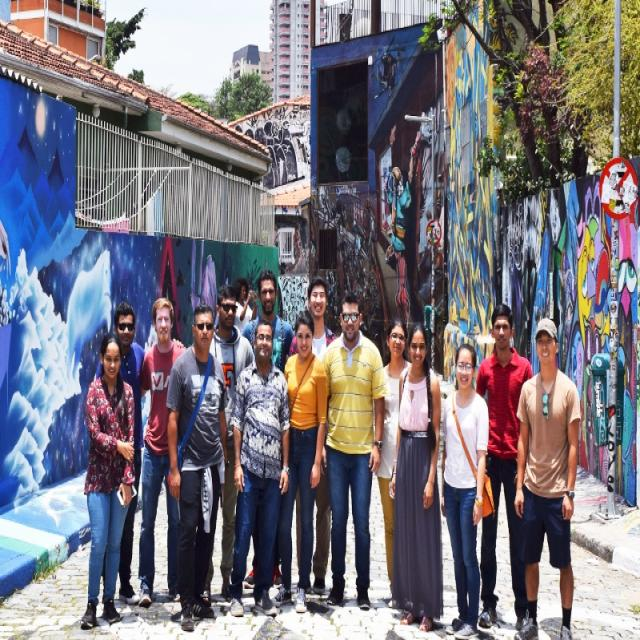body: (95, 301, 186, 607), (512, 312, 583, 639), (164, 301, 230, 634), (319, 288, 387, 611), (474, 302, 535, 631), (268, 306, 330, 614), (228, 316, 291, 618), (386, 318, 445, 632), (78, 330, 136, 629), (287, 274, 340, 597), (439, 340, 496, 639), (137, 297, 190, 607), (207, 282, 258, 602), (373, 316, 412, 611), (240, 269, 295, 375), (382, 157, 416, 315), (234, 277, 258, 335)
